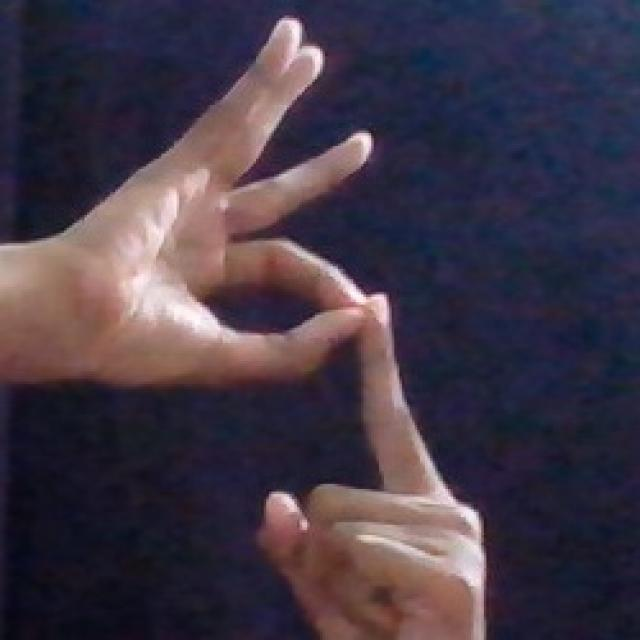Alphabet-P: (41, 4, 498, 637)
